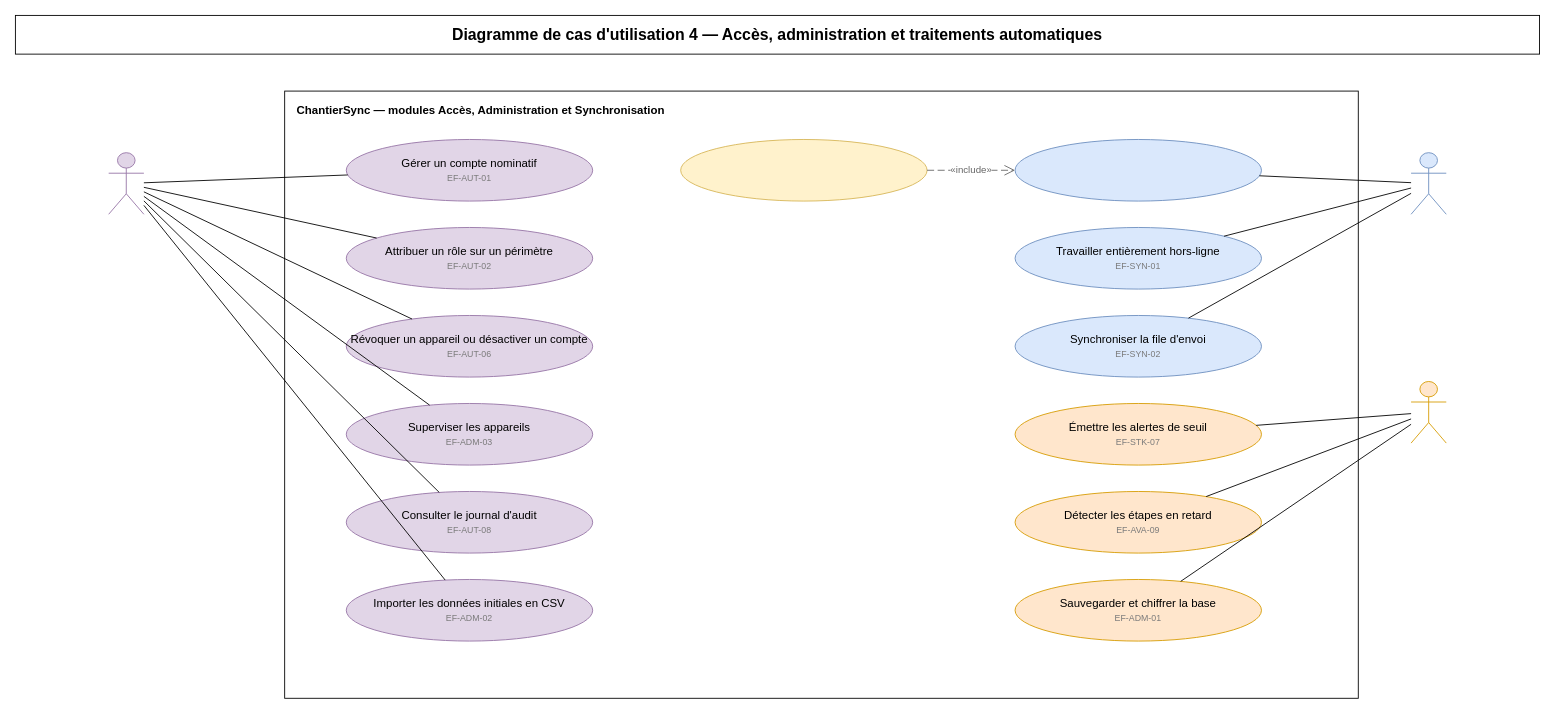
The diagram is 1555 pixels wide and 714 high, and some of its shapes have lost their labels. The centre of each missing label's shape, as x and y in pixels:
"Administrateur fonctionnel" belongs at [126,183].
"Appliquer la matrice de droits EF-AUT-07" belongs at [803,170].
"Ordonnanceur (cron serveur)" belongs at [1428,412].
"Se connecter par identifiant et code PIN EF-AUT-03" belongs at [1137,170].
"Utilisateur mobile" belongs at [1428,183].
